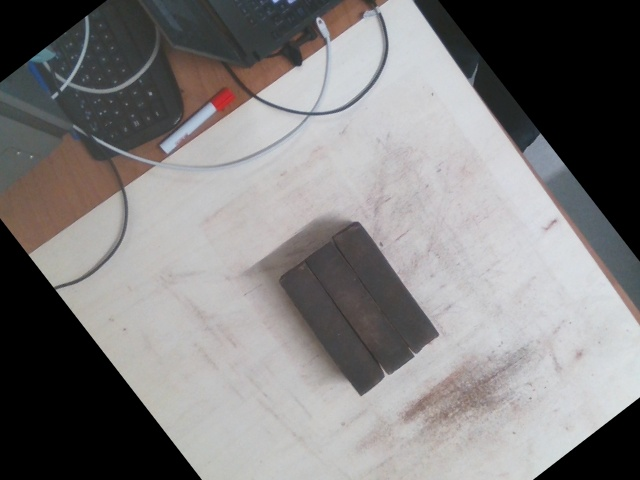brick-side: (333, 224, 437, 352), (306, 246, 410, 374), (279, 266, 383, 394)
